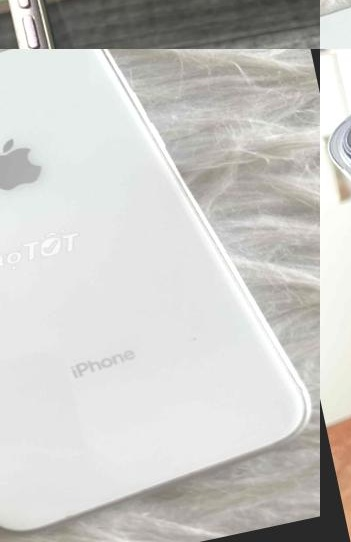scratch: (15, 38, 23, 49)
